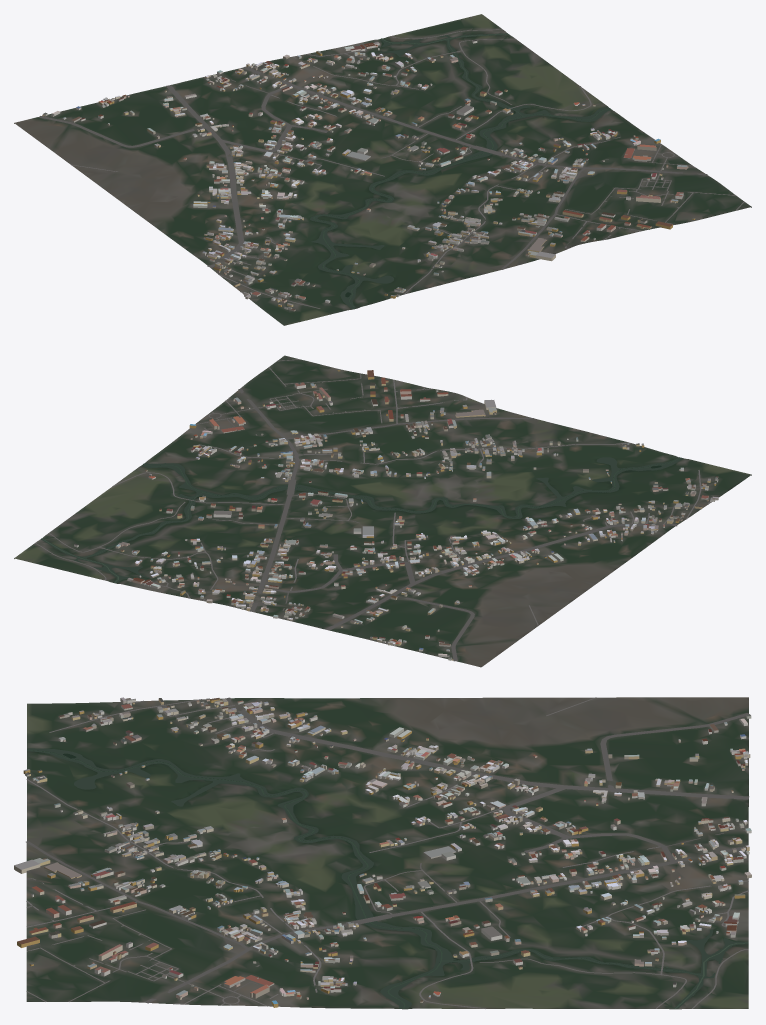
The picture shows the model from 3 angles, top to bottom: view 1: azimuth 30°, elevation 25°; view 2: azimuth 150°, elevation 25°; view 3: azimuth 270°, elevation 25°; orthographic projection. The views are drawn at different scales.
Parts seen in each view (by area): view 1: ground, buildings, roads, water; view 2: ground, buildings, roads, water; view 3: ground, buildings, roads, water.
Boxes of the visible parts, left/top/right/bottom form: ground: left=14, top=14, right=751, bottom=325; buildings: left=42, top=40, right=695, bottom=311; roads: left=39, top=29, right=744, bottom=308; water: left=310, top=33, right=611, bottom=308; ground: left=14, top=355, right=751, bottom=667; buildings: left=74, top=369, right=718, bottom=660; roads: left=35, top=359, right=709, bottom=661; water: left=41, top=457, right=683, bottom=583; ground: left=26, top=697, right=748, bottom=1009; buildings: left=14, top=697, right=751, bottom=1007; roads: left=26, top=697, right=749, bottom=1008; water: left=27, top=748, right=748, bottom=1008.
Bounding box in the file's own units: 1411 × 32.84 × 1432.
